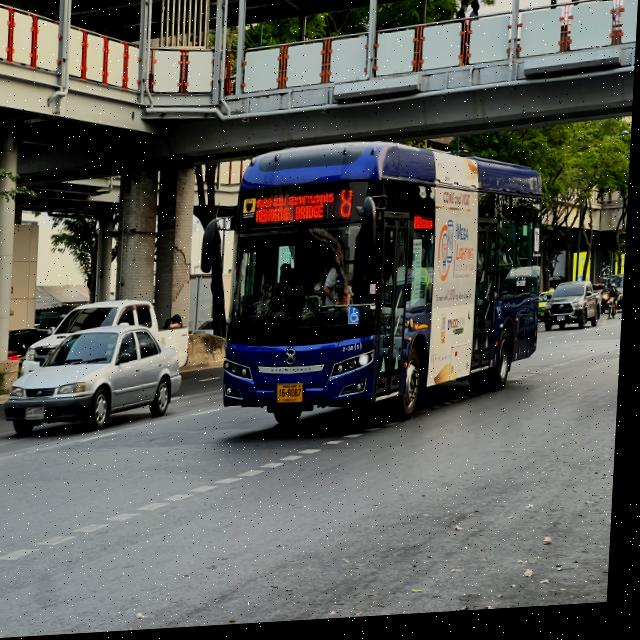Bus-Line-Number: (339, 188, 359, 224)
Destination-Sign-Normal: (256, 191, 338, 229)
TSB-Bus: (223, 132, 554, 449)
